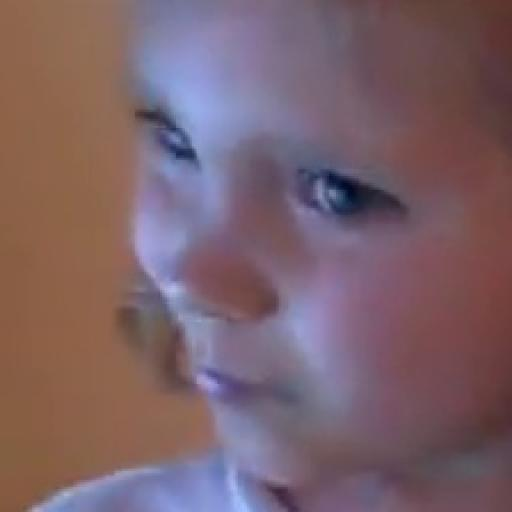Autism: (87, 4, 512, 504)
